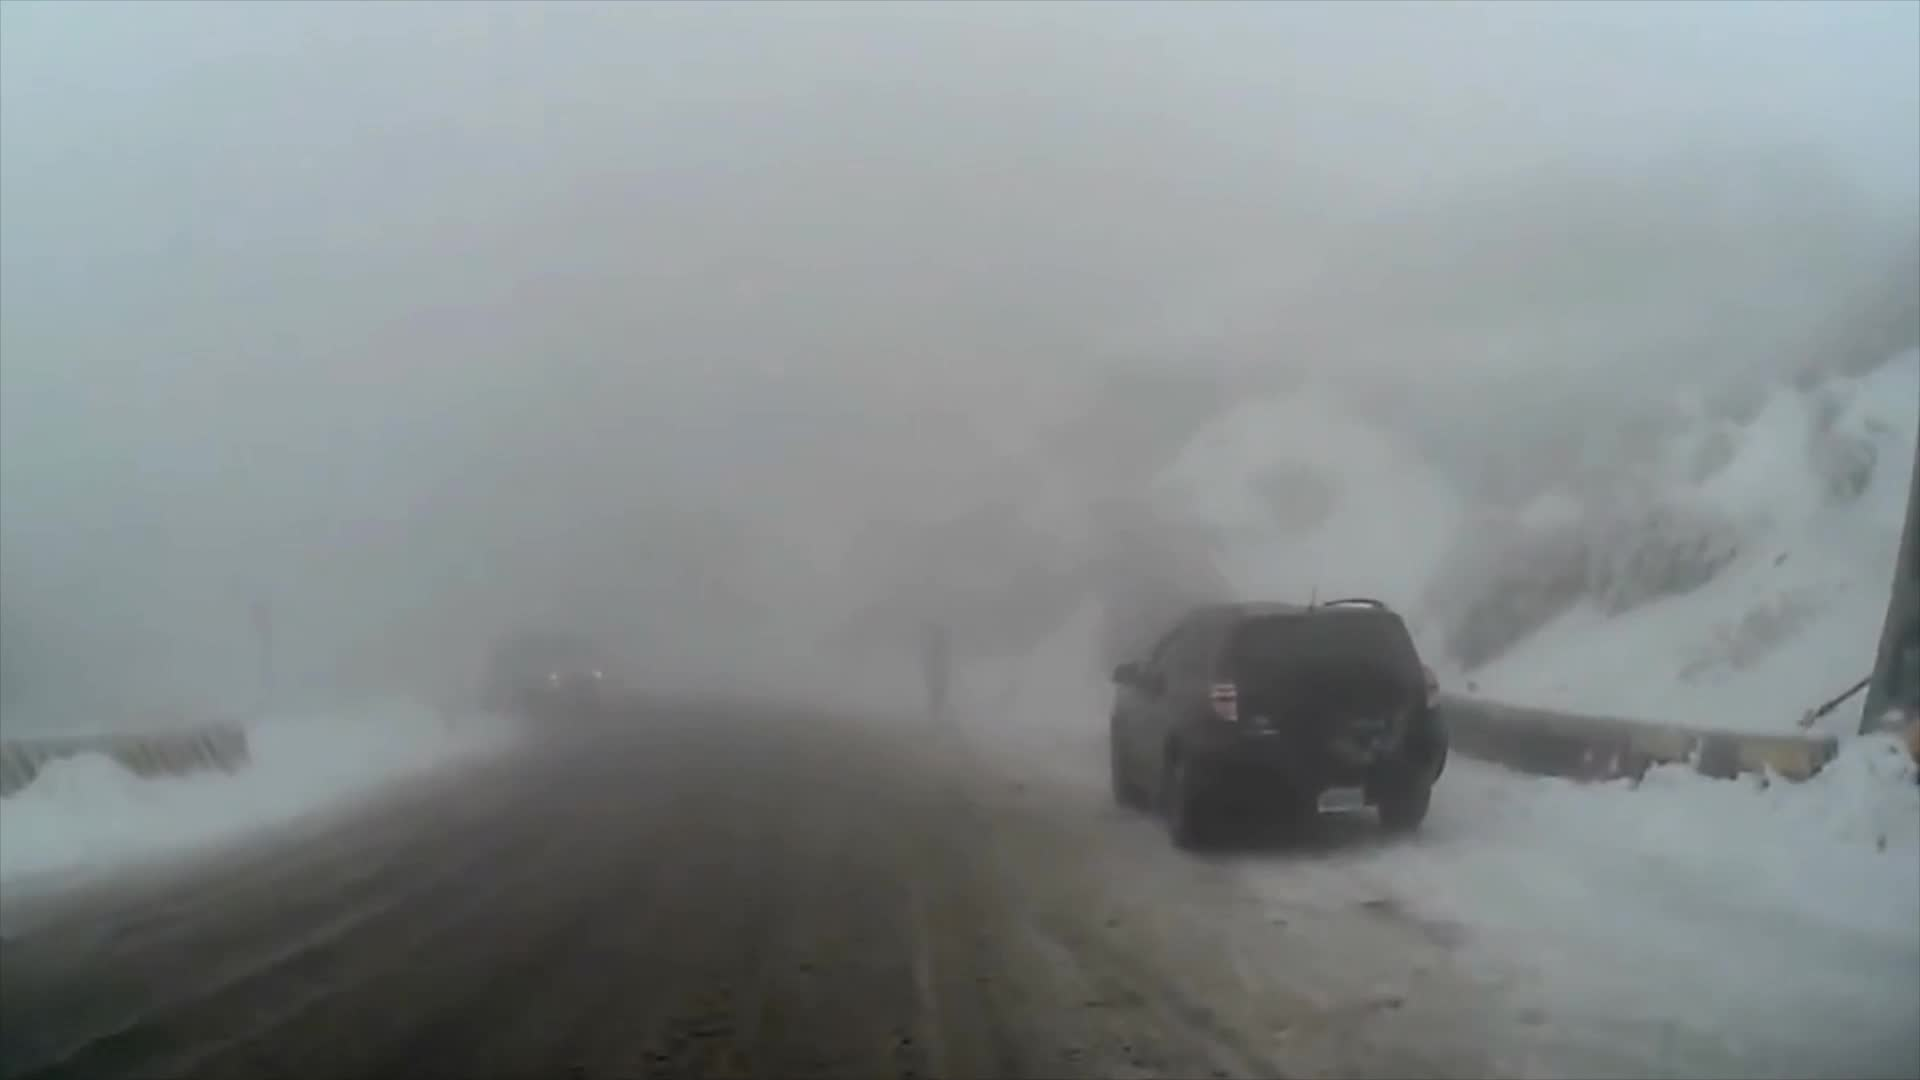vehicle: (1104, 596, 1447, 852)
